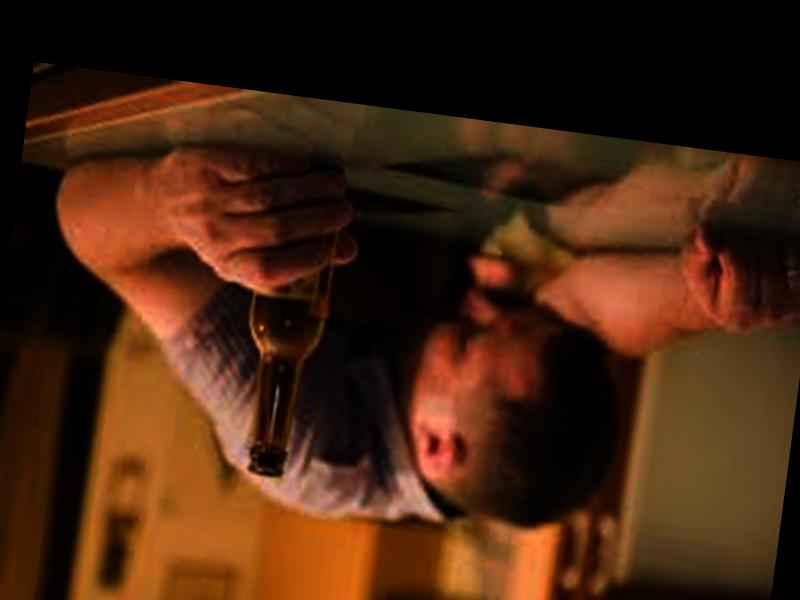Beer: (233, 155, 344, 483)
